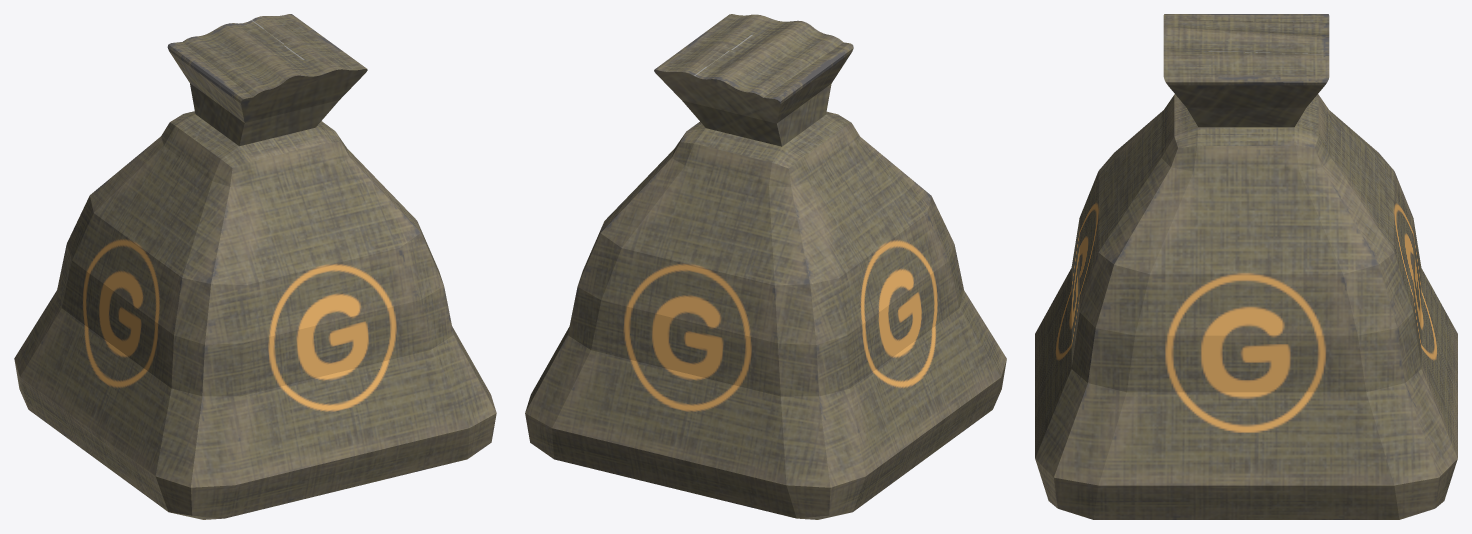
File: Item_Resource_MoneyBag_01.fbx
The picture shows the model from 3 angles, left to right: view 1: azimuth 30°, elevation 25°; view 2: azimuth 150°, elevation 25°; view 3: azimuth 270°, elevation 25°; orthographic projection. The views are drawn at different scales.
Parts seen in each view (by area): view 1: Item_Resource_MoneyBag_01; view 2: Item_Resource_MoneyBag_01; view 3: Item_Resource_MoneyBag_01.
Boxes of the visible parts, x1,y1,x2,y2 form: Item_Resource_MoneyBag_01: (14,14,496,519); Item_Resource_MoneyBag_01: (525,14,1006,519); Item_Resource_MoneyBag_01: (1035,14,1457,519).
Size of the model in its own units: 55.05 by 61.02 by 55.05.
